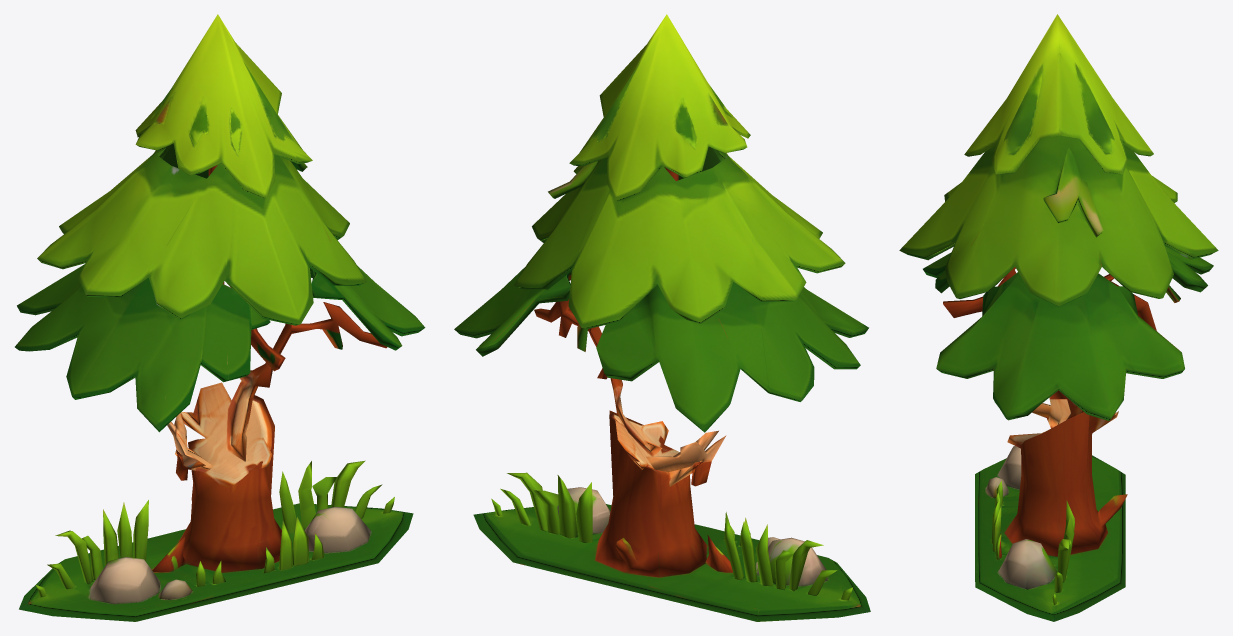
Rendered from etapa50.glb.
3 renders of one model, left to right at view 1: azimuth 30°, elevation 25°; view 2: azimuth 150°, elevation 25°; view 3: azimuth 270°, elevation 25°, orthographic. The views are drawn at different scales.
Size of the model in its own units: 0.7545 by 0.9981 by 0.5569.
Materials: 1 (1 with a texture image).
